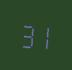one: (35, 19, 50, 50)
three: (19, 18, 34, 49)
